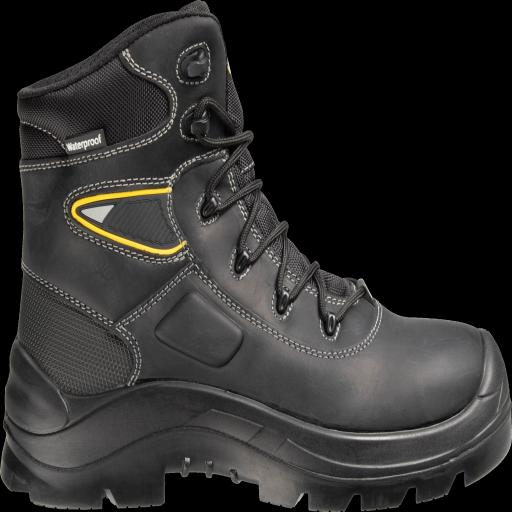safety_boots: (6, 10, 512, 507)
